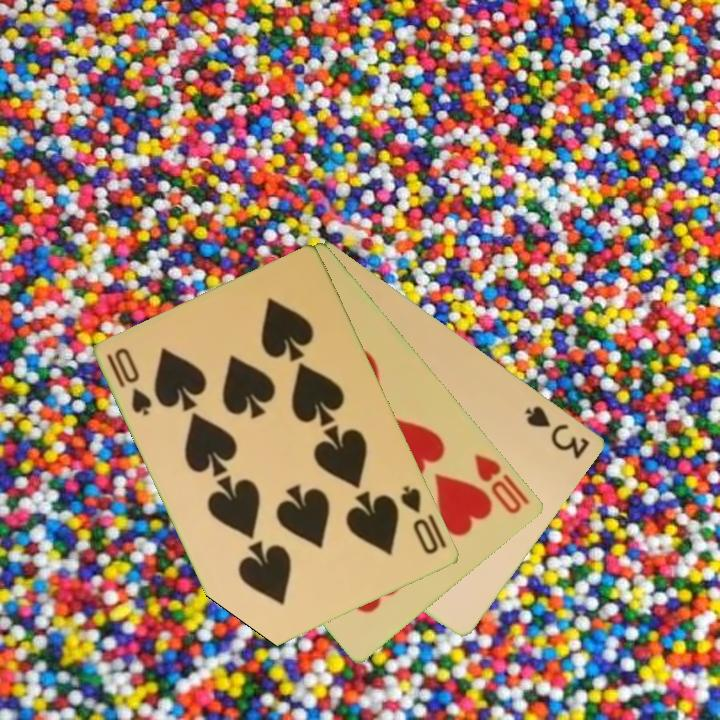10h: (471, 450, 533, 517)
10s: (104, 344, 156, 419), (397, 481, 442, 558)
3s: (522, 402, 593, 462)
